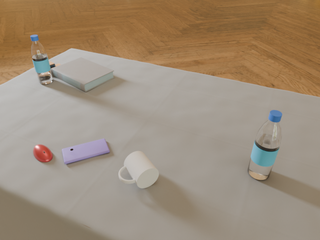book: (51, 57, 115, 92)
bottle: (248, 110, 282, 180), (31, 35, 53, 84)
cup: (119, 151, 159, 188)
mouse: (33, 144, 53, 162)
phone: (62, 139, 110, 164)
